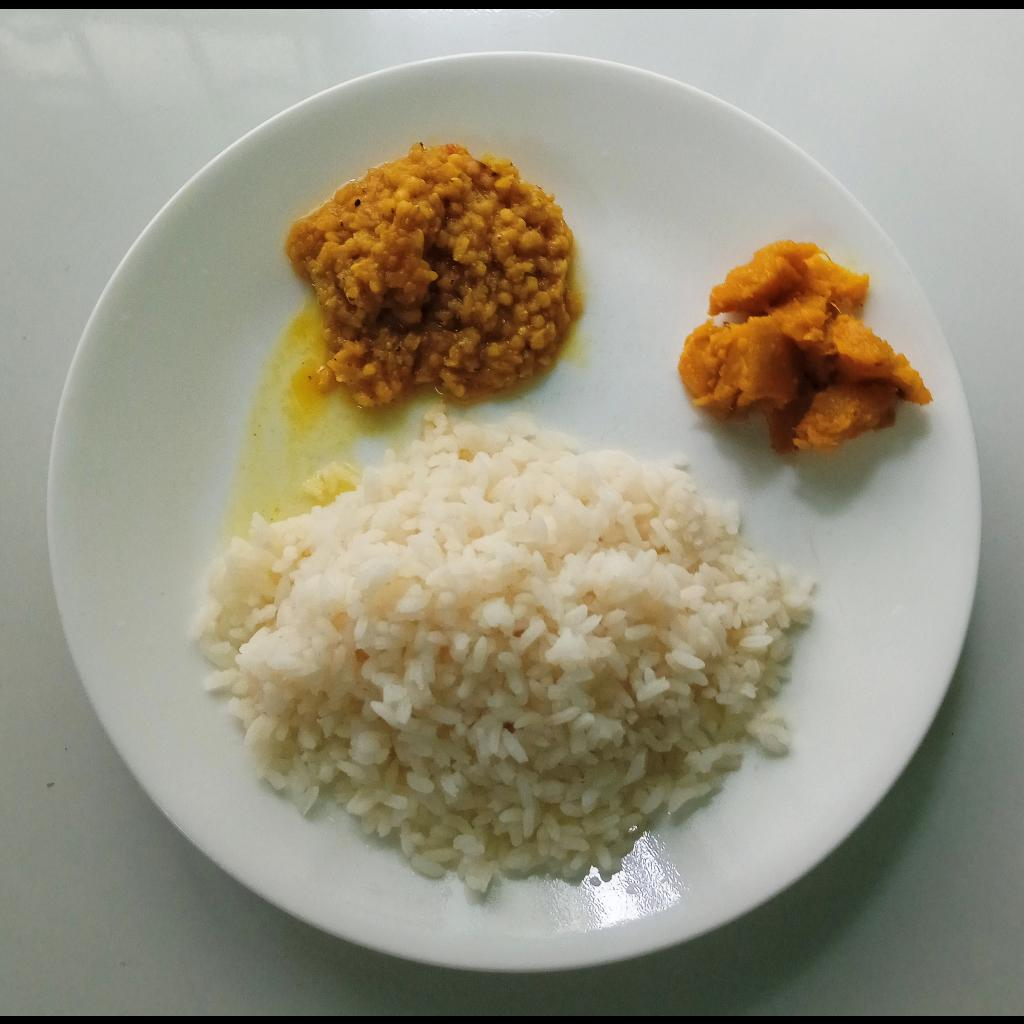daal: (283, 137, 586, 412)
kumra-vaji: (678, 233, 939, 461)
rice: (181, 402, 819, 894)
